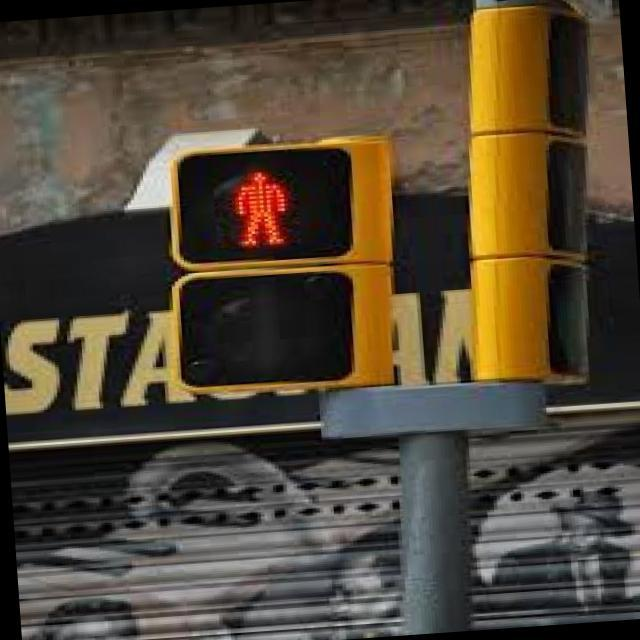redlight: (175, 125, 399, 397)
